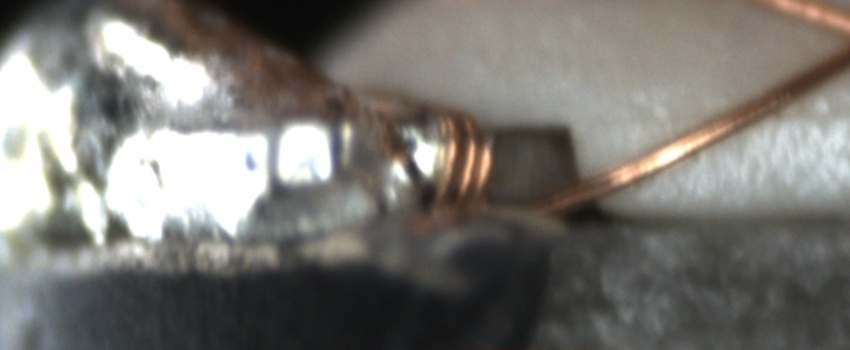DL: (755, 109, 849, 144)
TE: (410, 95, 497, 221)
